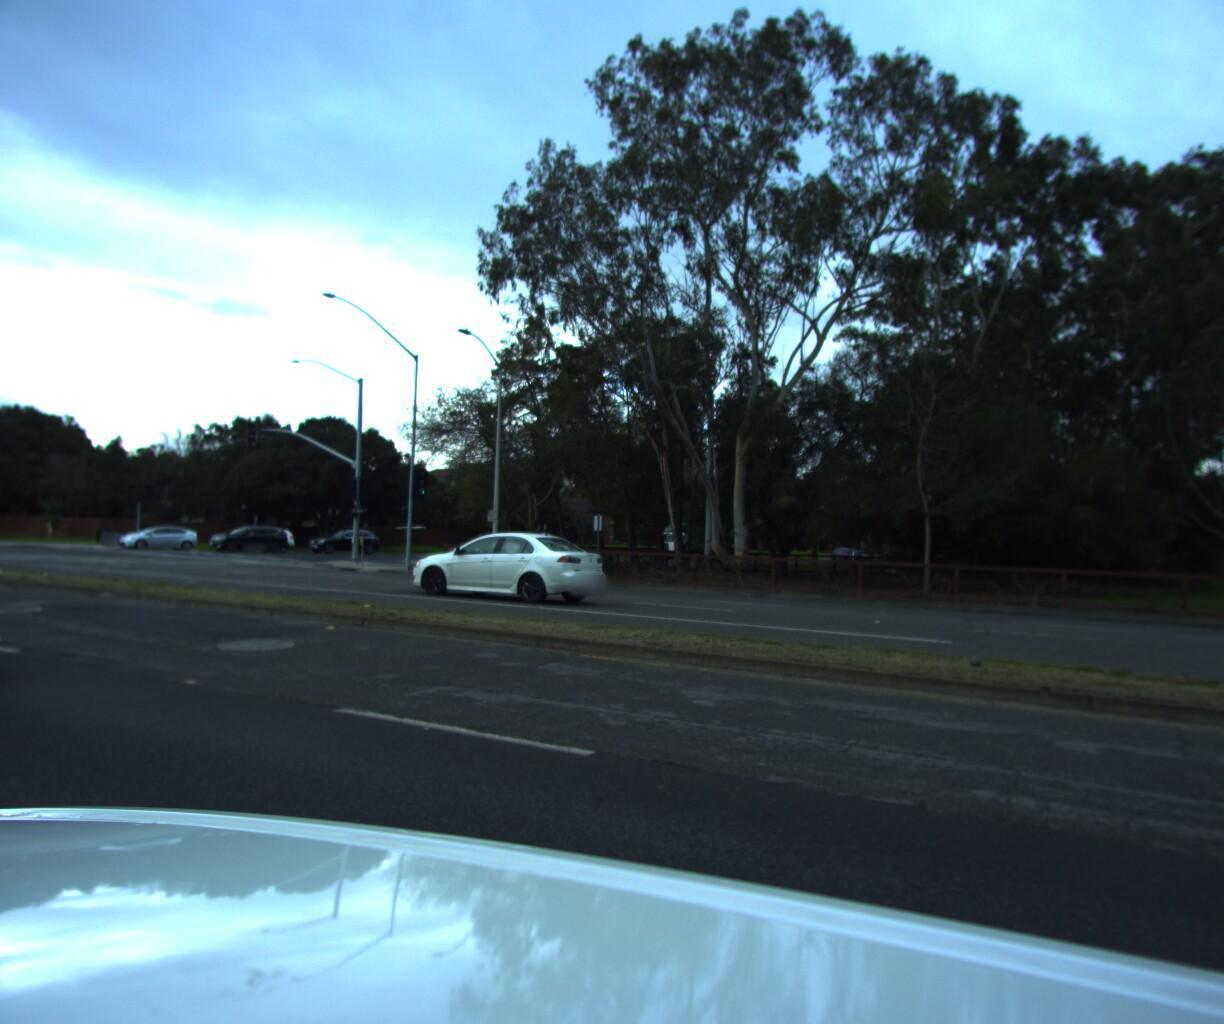car: (396, 521, 620, 605), (0, 483, 47, 727), (201, 518, 292, 549), (112, 520, 200, 548), (301, 522, 381, 551), (217, 521, 298, 549), (0, 492, 8, 565)
truck: (651, 507, 755, 556)
